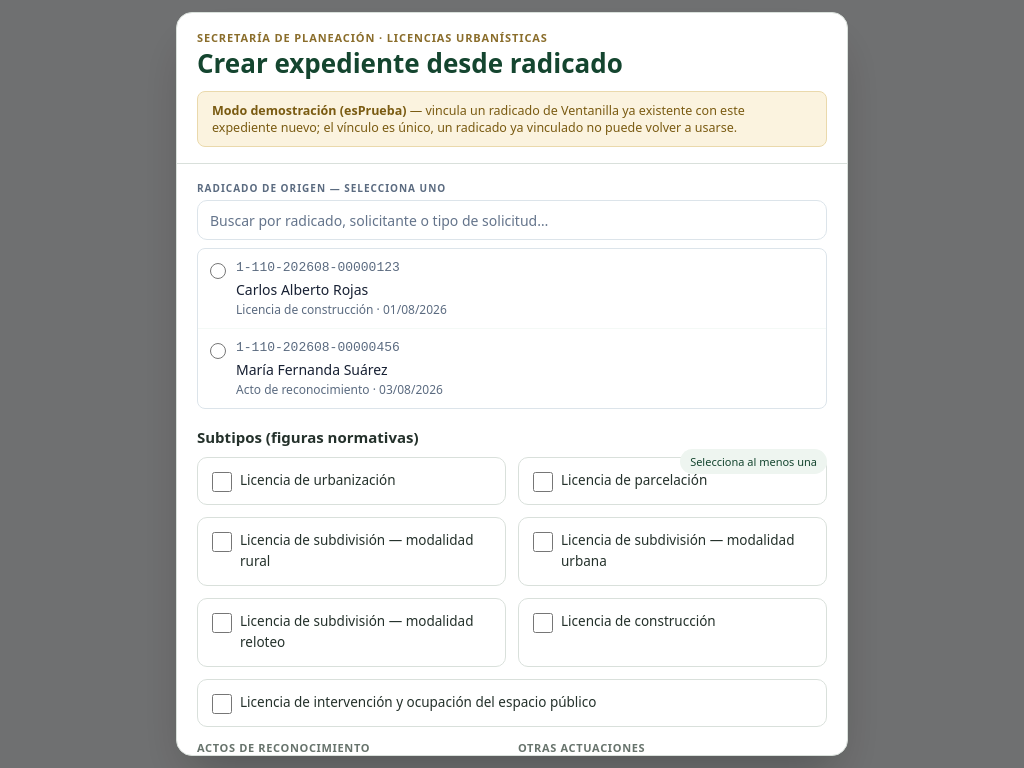
Test: Crear desde radicado — envío y errores del servidor › envía el radicadoId y los subtipos seleccionados al servidor
Check: the text "1-110-202608-00000123" is shown, box [236,260,400,276]
Click the radio button labelled "1-110-202608-00000123". click: (218, 272)
box: [210,264,226,280]
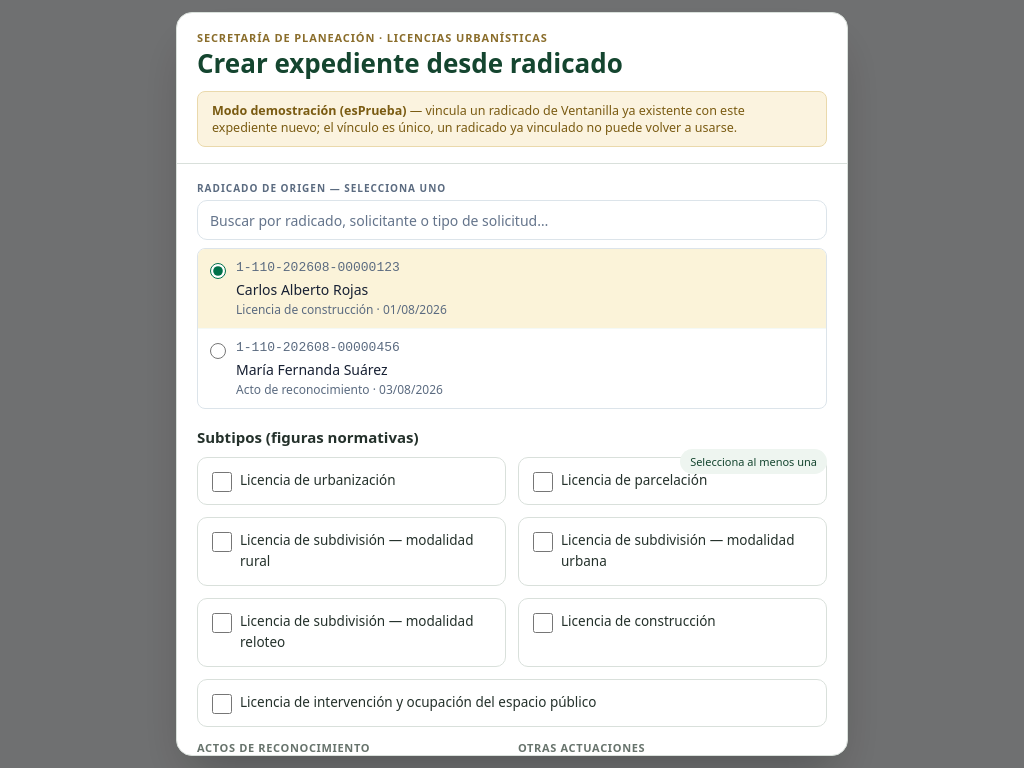
Click the checkbox labelled "Licencia de construcción". click: (543, 623)
box: [533,613,553,633]
(page scrolled)
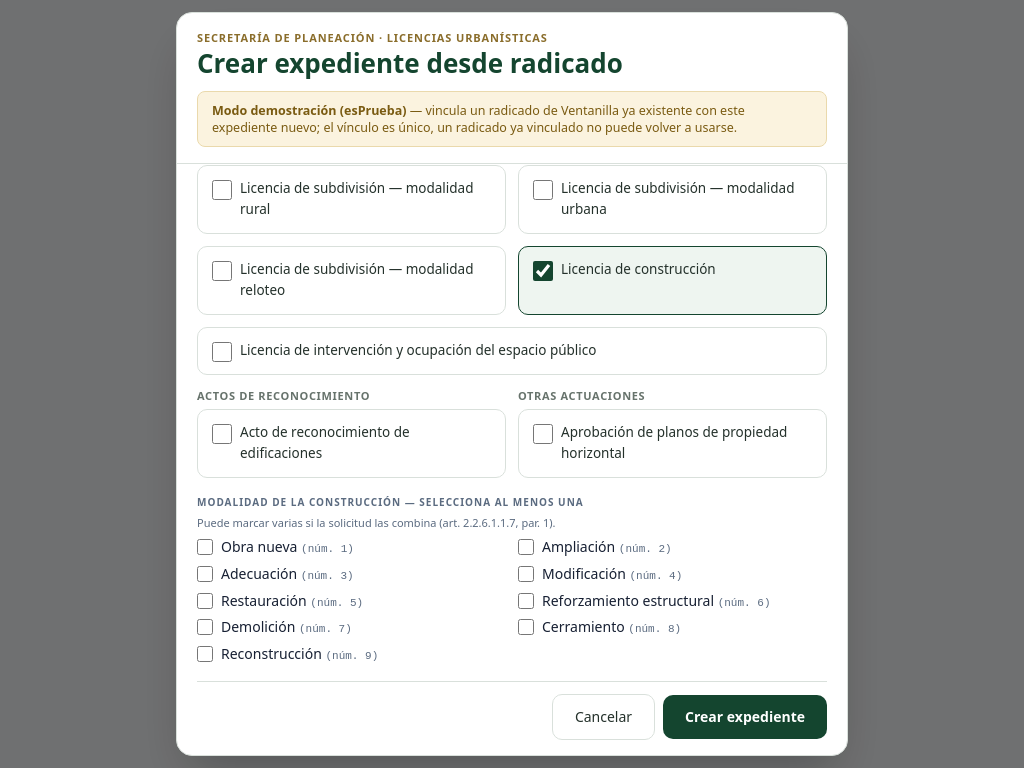
Click the checkbox labelled "Obra nueva (núm. 1)". click: (205, 547)
box: [197,539,213,555]
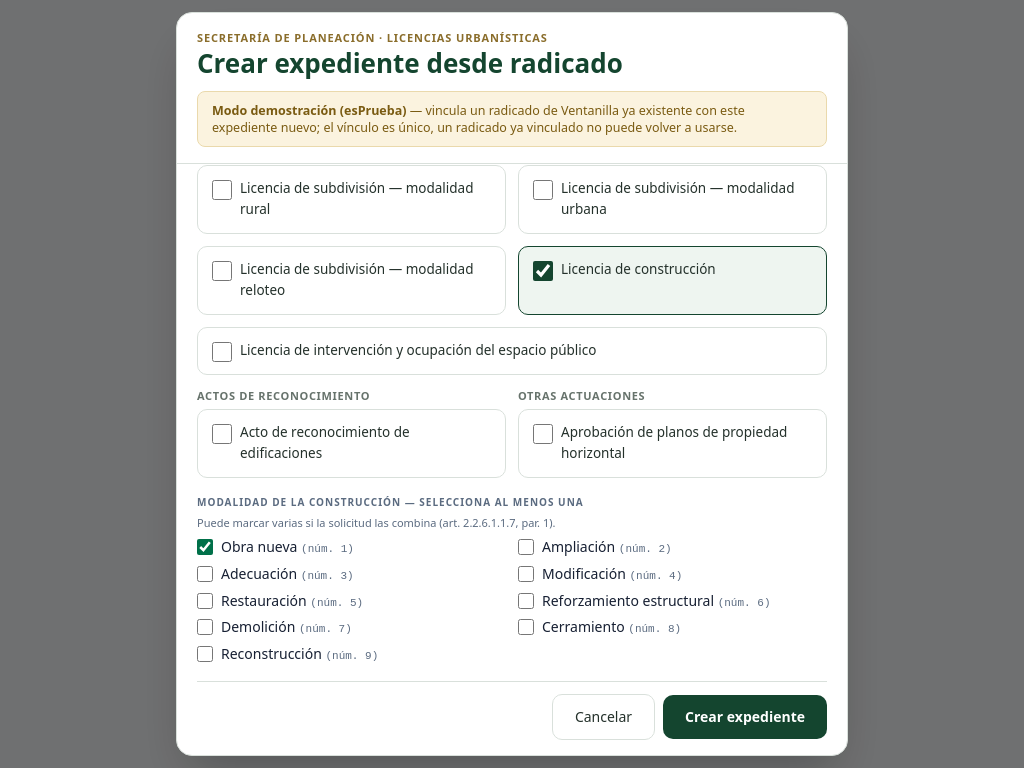
Click the button "Crear expediente". click: (745, 717)
box: [663,695,827,739]
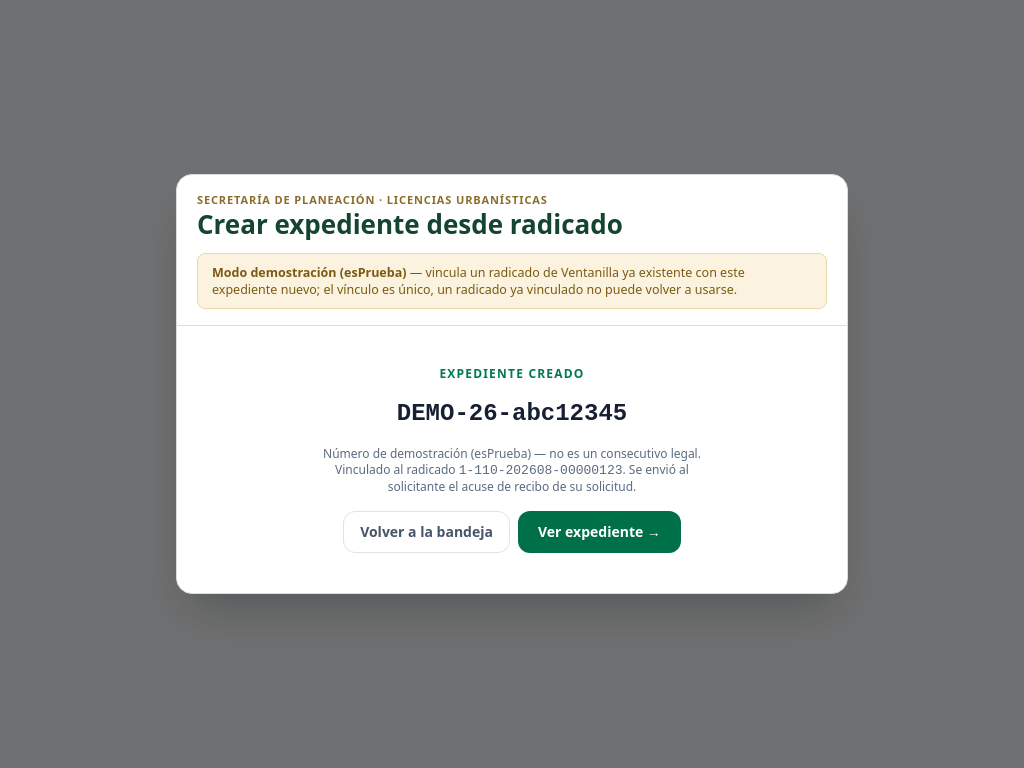
Check: the text "DEMO-26-abc12345" is shown, box [397,398,627,430]
Check: the text "Se envió al solicitante el acuse de recibo de su solicitud." is shown, box [388,461,689,495]
